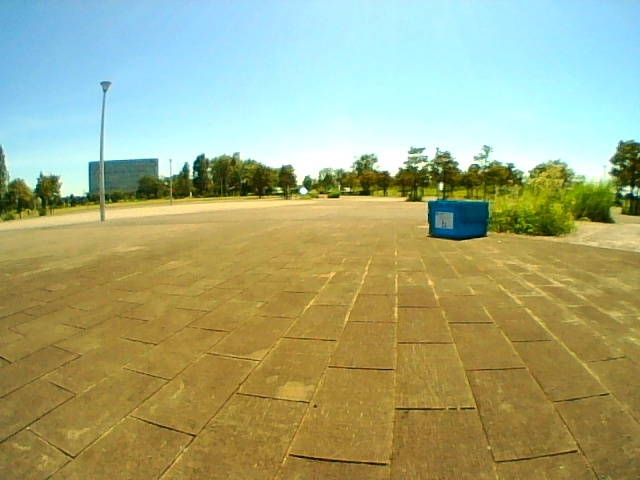blue_box: (428, 201, 487, 237)
tag: (435, 212, 452, 230)
